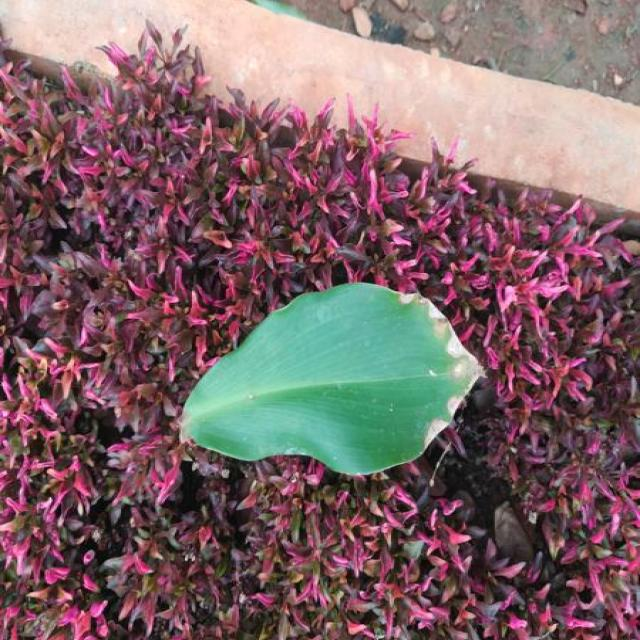insulin: (180, 282, 482, 473)
